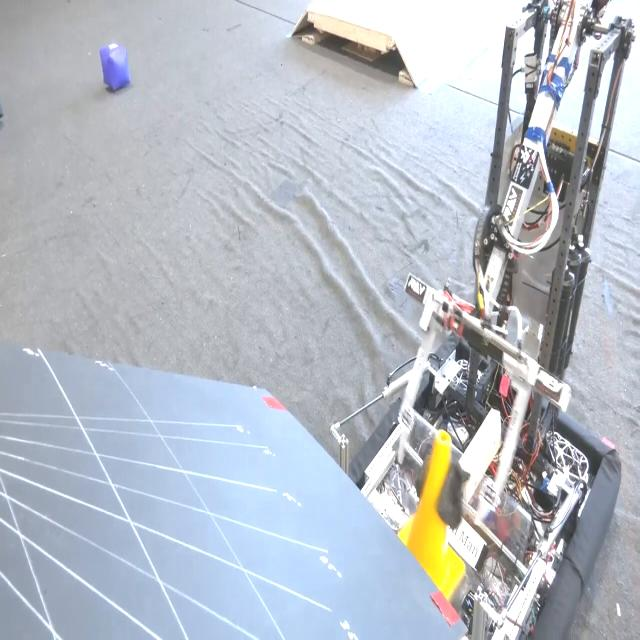frc_cone: (407, 437, 458, 602)
frc_cube: (94, 42, 132, 96)
